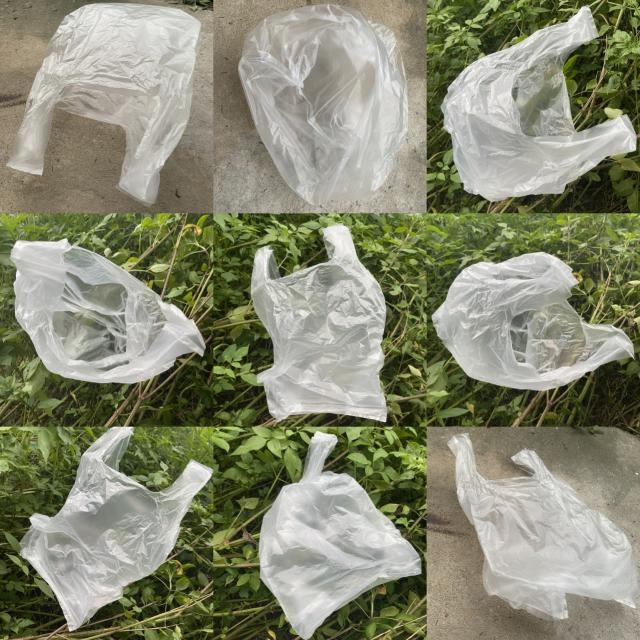Single-layer Plastic: (8, 4, 201, 206), (20, 428, 212, 631), (441, 6, 636, 201), (448, 434, 638, 620), (239, 4, 408, 205), (259, 431, 421, 640), (432, 252, 634, 391), (11, 240, 205, 383), (251, 225, 386, 421)
